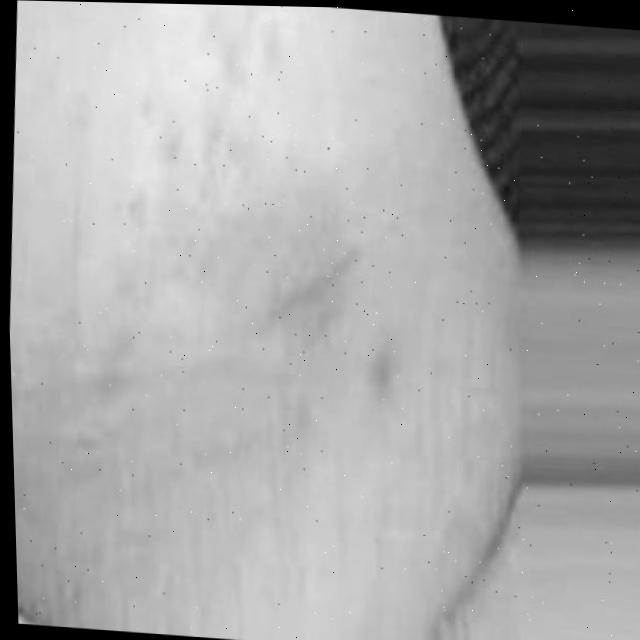Shingles: (166, 119, 368, 344)
